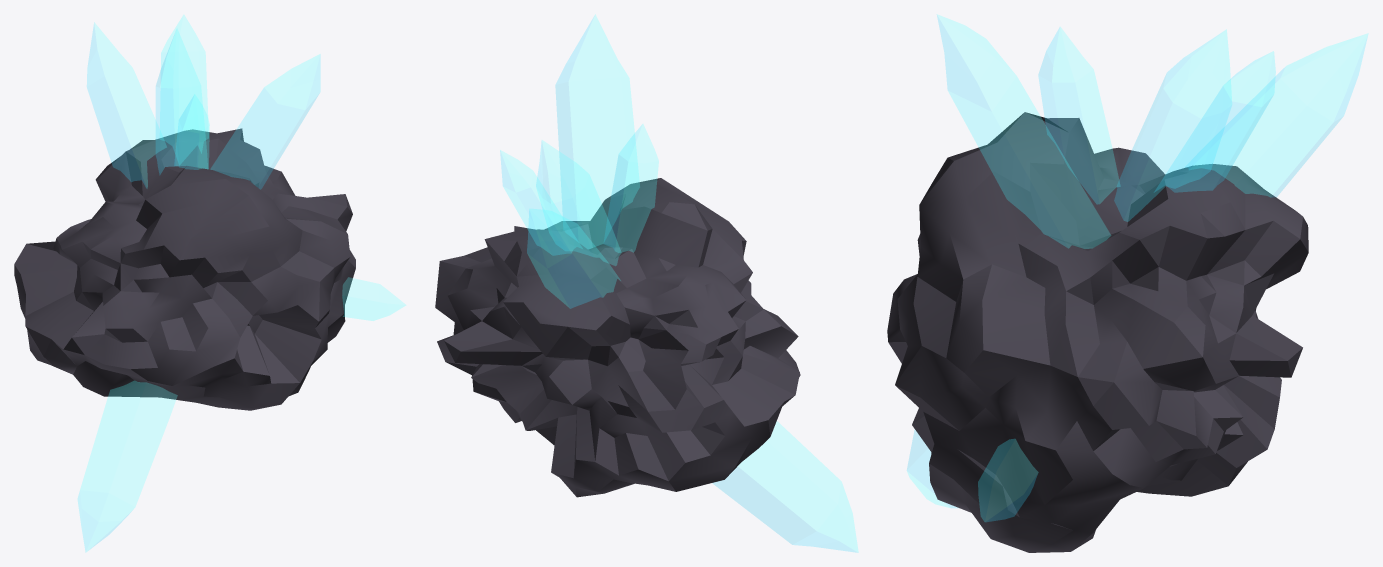
File: Debris_01_web.glb
3 views of the same model, side by side, from view 1: azimuth 30°, elevation 25°; view 2: azimuth 150°, elevation 25°; view 3: azimuth 270°, elevation 25° (orthographic). The views are drawn at different scales.
Parts seen in each view (by area): view 1: Debris_01_Rock, Debris_01_Crystals; view 2: Debris_01_Rock, Debris_01_Crystals; view 3: Debris_01_Rock, Debris_01_Crystals.
Part boxes in pixels (<box>): Debris_01_Rock: <box>14,128,355,410</box>; Debris_01_Crystals: <box>78,15,405,551</box>; Debris_01_Rock: <box>435,178,800,497</box>; Debris_01_Crystals: <box>500,14,858,552</box>; Debris_01_Rock: <box>887,112,1308,552</box>; Debris_01_Crystals: <box>907,14,1367,521</box>.
Bounding box in the file's own units: 2.15 × 2.65 × 1.75.
